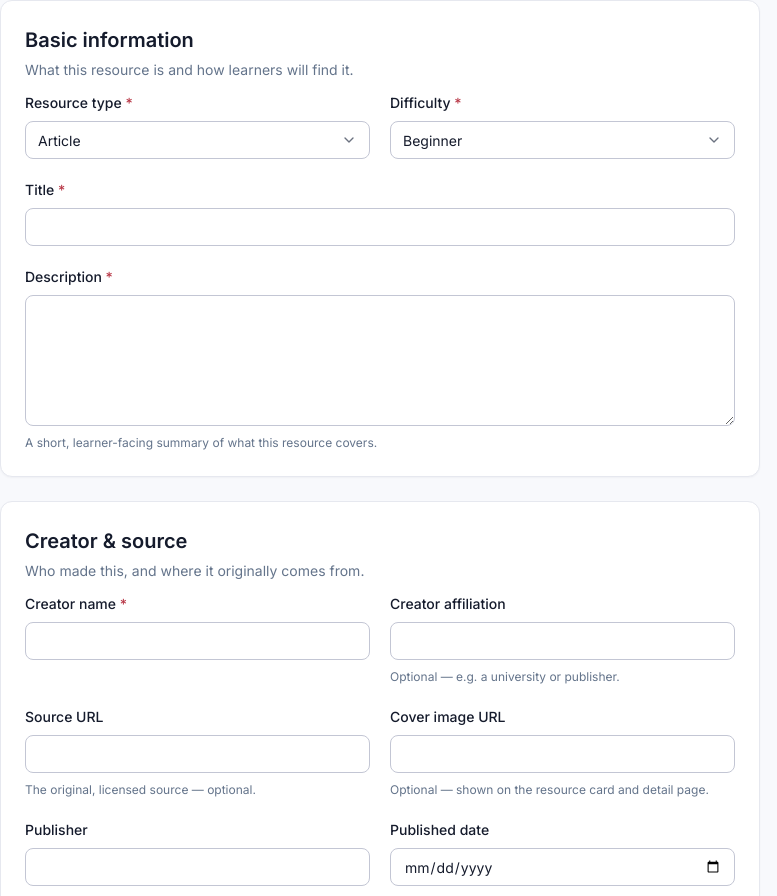
Test: ResourceForm › shows the duration field only for VIDEO/RECORDING, and requires it
expect the field labelled "Duration (minutes)" is not shown: met
Select "Video" in the dropdown labelled "Resource type *": (198,140) [26,122,369,158]
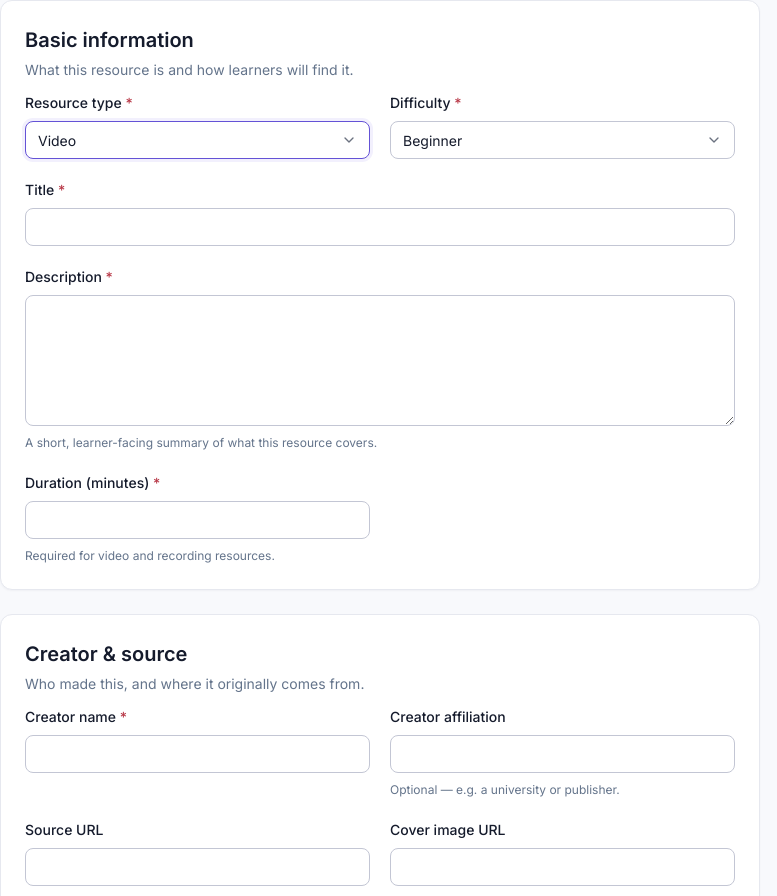
expect the number field labelled "Duration (minutes) *" is shown: met, box [38,502,357,538]
Select "Article" in the dropdown labelled "Resource type *": (198,140) [26,122,369,158]
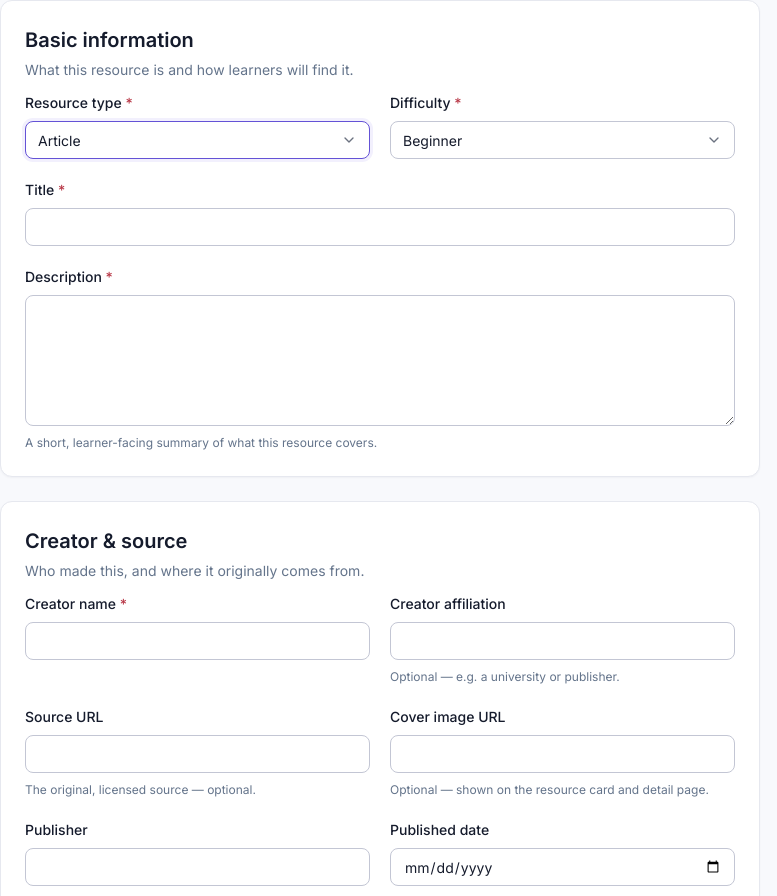
expect the label labelled "Duration (minutes)" is gone: met
